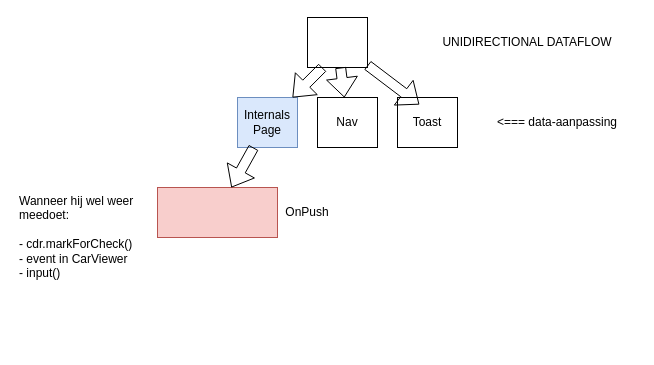
The diagram is 654 pixels wide and 365 high, and some of its shapes have lost their labels. Here are the shapes that lost their labels. From the top down, the centre of each, then its label:
At (x=337, y=42): "App".
At (x=217, y=212): "CarViewer".
